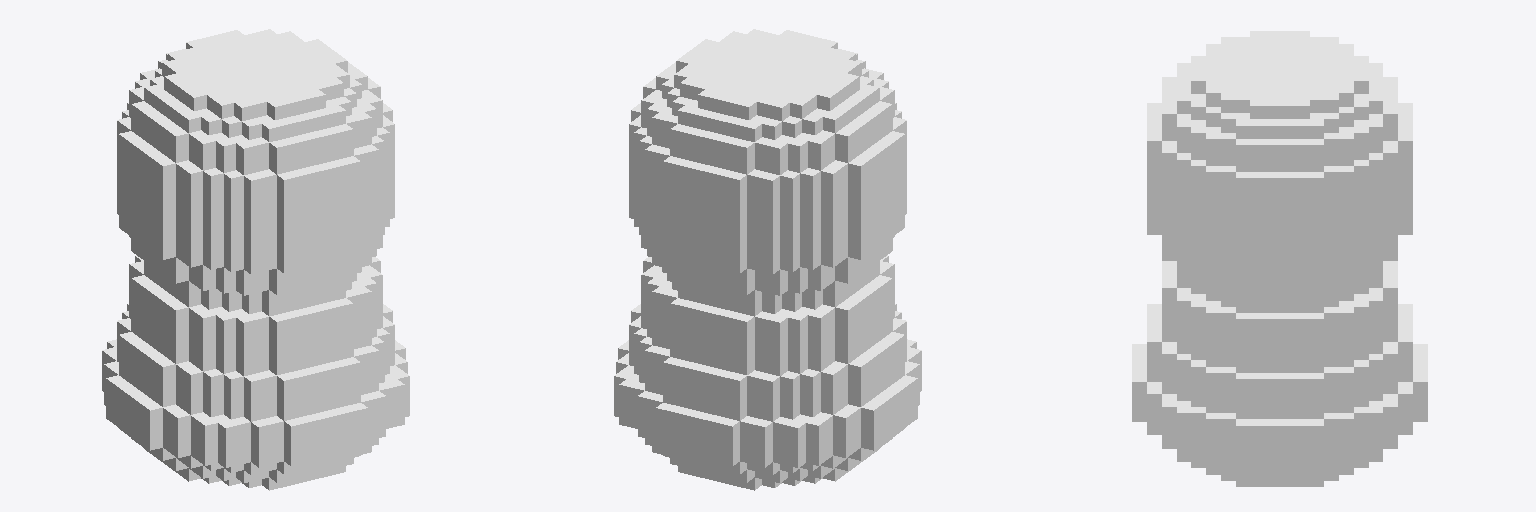
File: body1.obj
3 views of the same model, side by side, from view 1: azimuth 30°, elevation 25°; view 2: azimuth 150°, elevation 25°; view 3: azimuth 270°, elevation 25° (orthographic).
Visible parts, largest first — view 1: object 1; view 2: object 1; view 3: object 1.
Boxes of the visible parts, x1,y1,x2,y2 form: object 1: [102, 29, 409, 490]; object 1: [614, 29, 921, 490]; object 1: [1132, 31, 1427, 486].
Size of the model in its own units: 2 by 2.8 by 2.